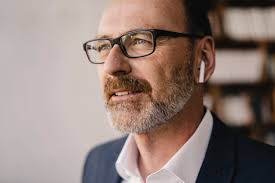earphone: (194, 36, 216, 83)
